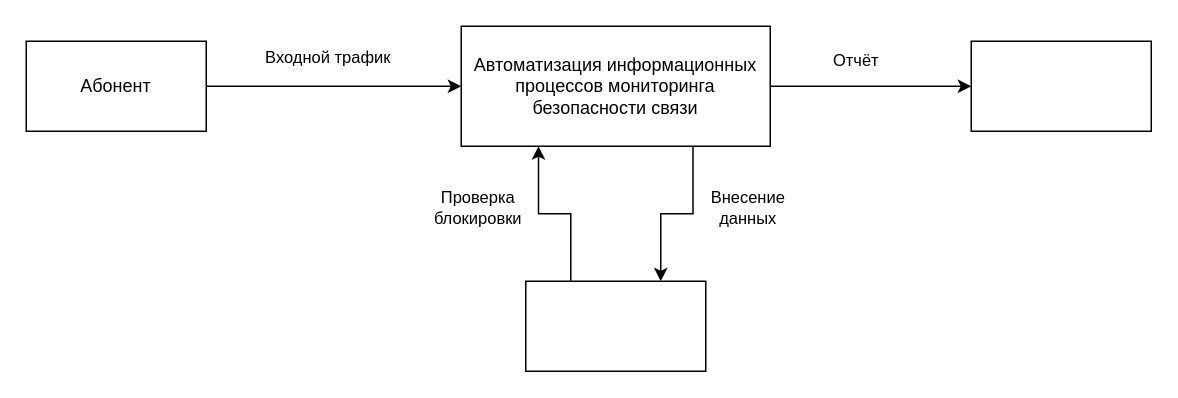
Some shapes in this 1178 by 398 pixel diagram are drawn without their labels. The centre of each missing label's shape, as x and y in pixels:
База данных: the point at 615,325
Оператор: the point at 1060,85
